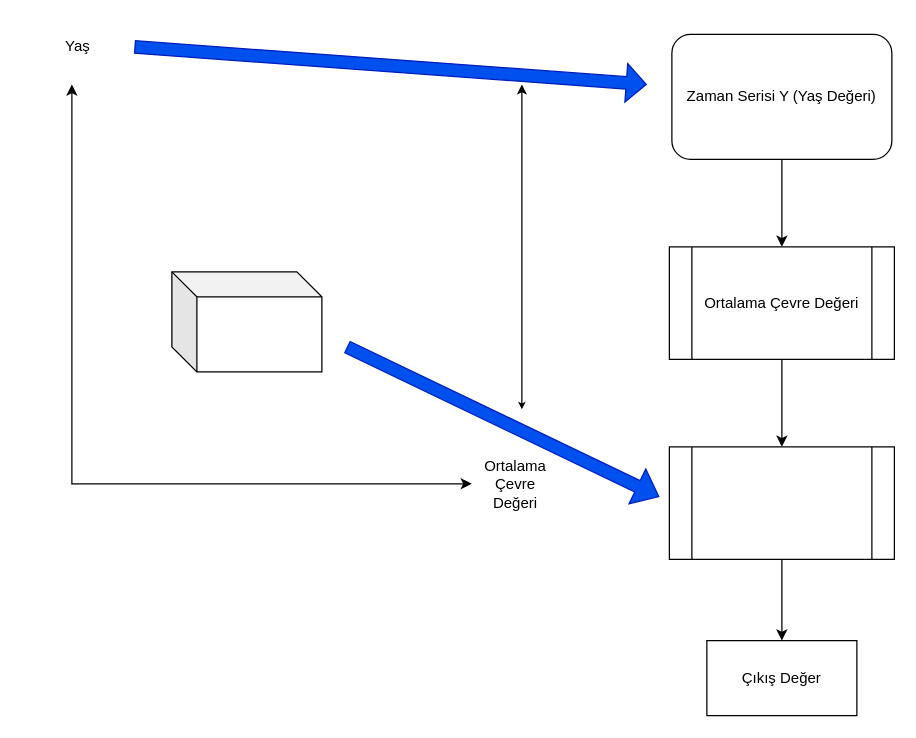
The diagram is 916 pixels wide and 738 high, and some of its shapes have lost their labels. The shapes that lost their labels are listed below. From the top down, each one's box as (x1, y1, x2, y2) in pixels, then its label:
(171, 271, 322, 372): Bağımlı Yüksek Dereceden Fonksiyon
(668, 446, 894, 559): Fonksiyon
